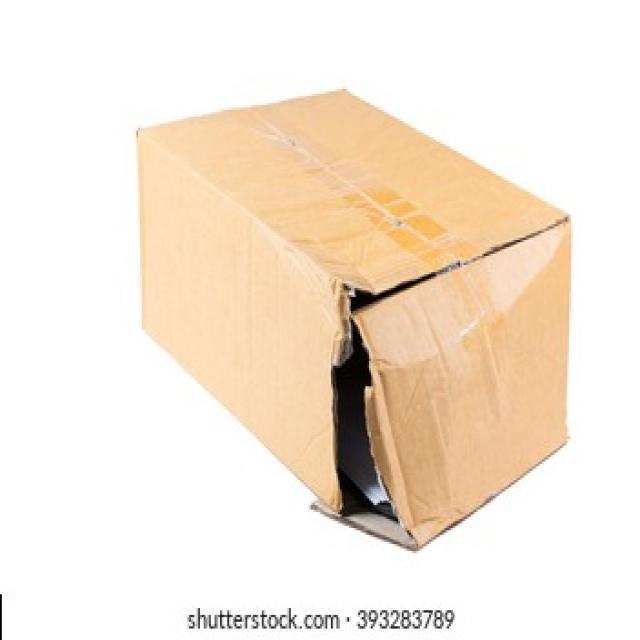damaged: (310, 278, 414, 551)
